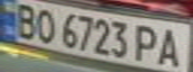2: (90, 16, 112, 56)
3: (109, 18, 133, 60)
6: (54, 11, 81, 50)
7: (72, 12, 96, 52)
A: (154, 25, 187, 69)
B: (9, 1, 42, 39)
O: (30, 6, 60, 44)
P: (130, 21, 163, 64)
